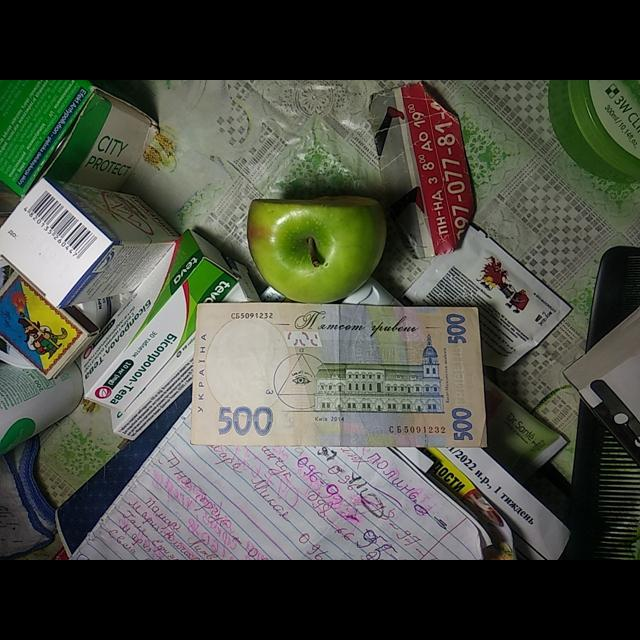500uah: (194, 300, 486, 446)
